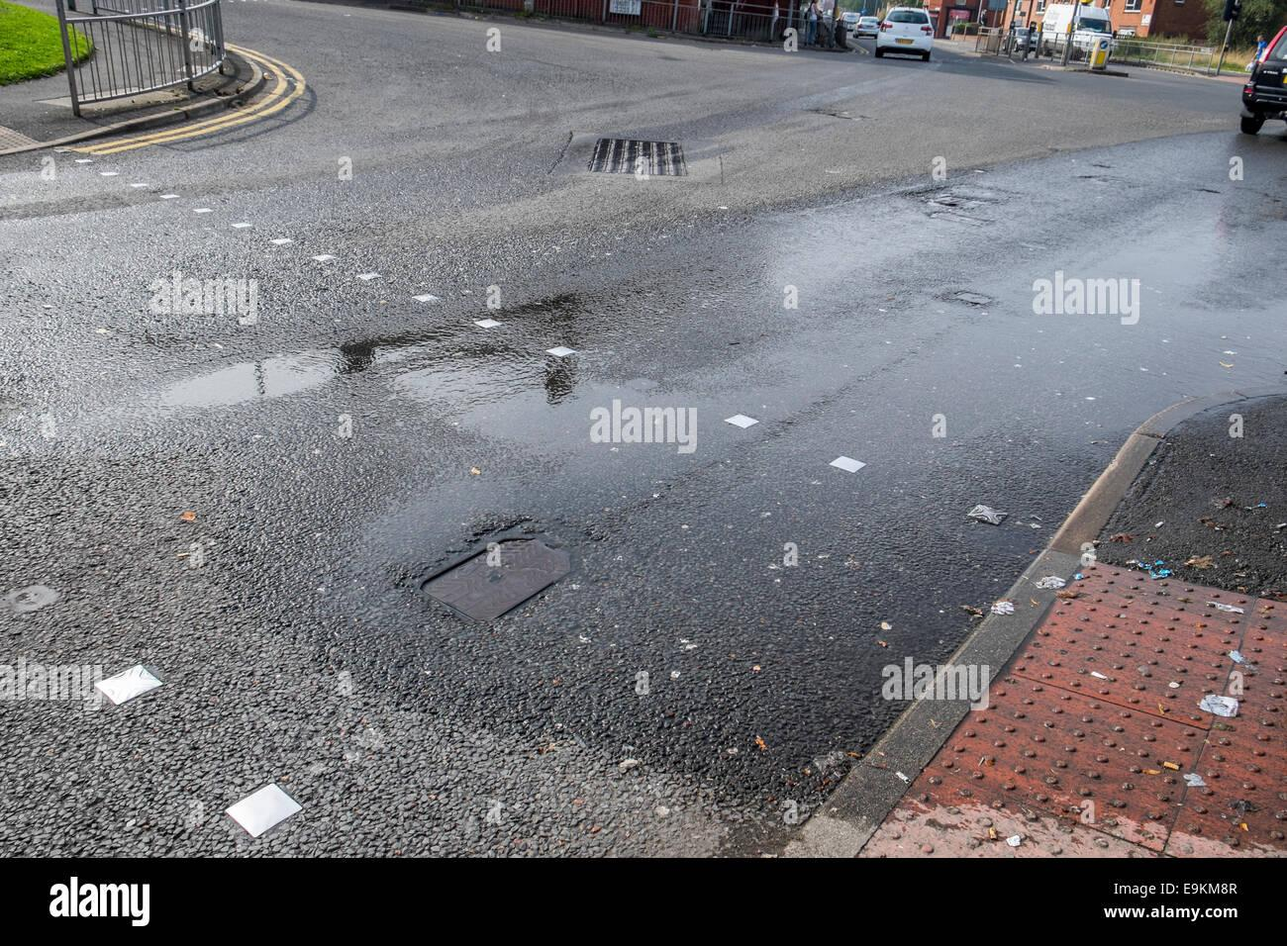water_leak: (307, 189, 1283, 636)
